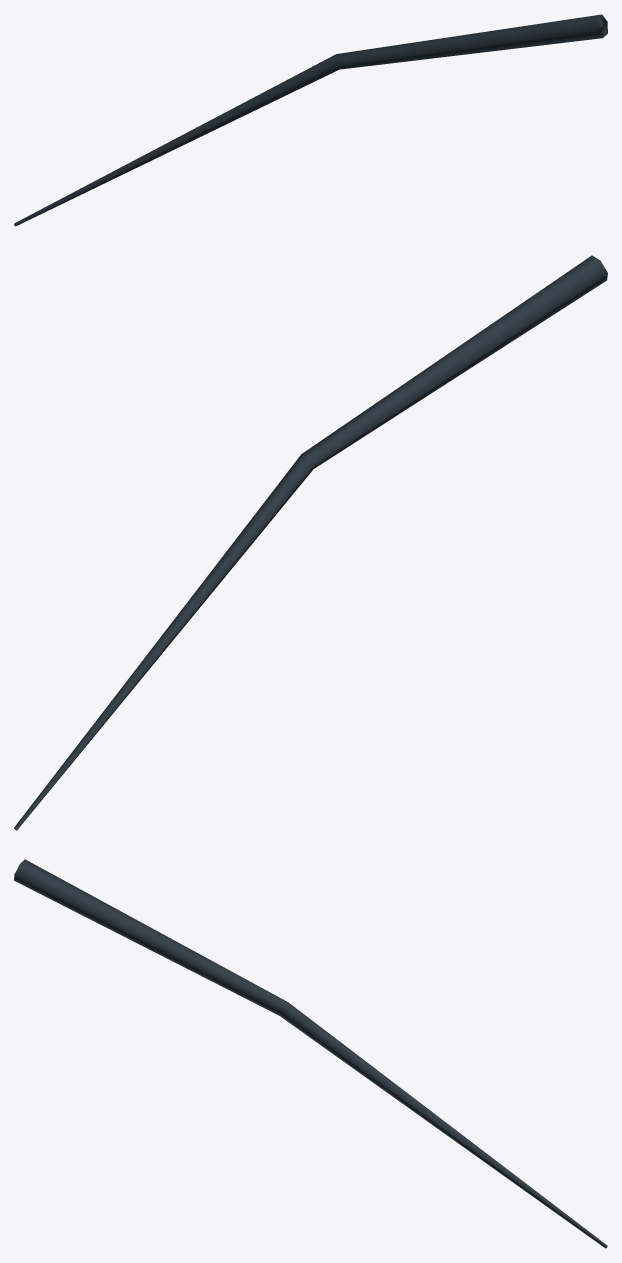
File: R_Wing_Finger_3.obj
3 views of the same model, one above another, from view 1: azimuth 90°, elevation 25°; view 2: azimuth 150°, elevation 25°; view 3: azimuth 270°, elevation 25° (orthographic). The views are drawn at different scales.
Parts seen in each view (by area): view 1: R_Wing_Finger_3; view 2: R_Wing_Finger_3; view 3: R_Wing_Finger_3.
Part boxes in pixels (left/top/right/bottom): R_Wing_Finger_3: left=14, top=14, right=607, bottom=226; R_Wing_Finger_3: left=14, top=255, right=607, bottom=830; R_Wing_Finger_3: left=14, top=859, right=607, bottom=1248.
Bounding box in the file's own units: 2.05 × 3 × 5.42.
